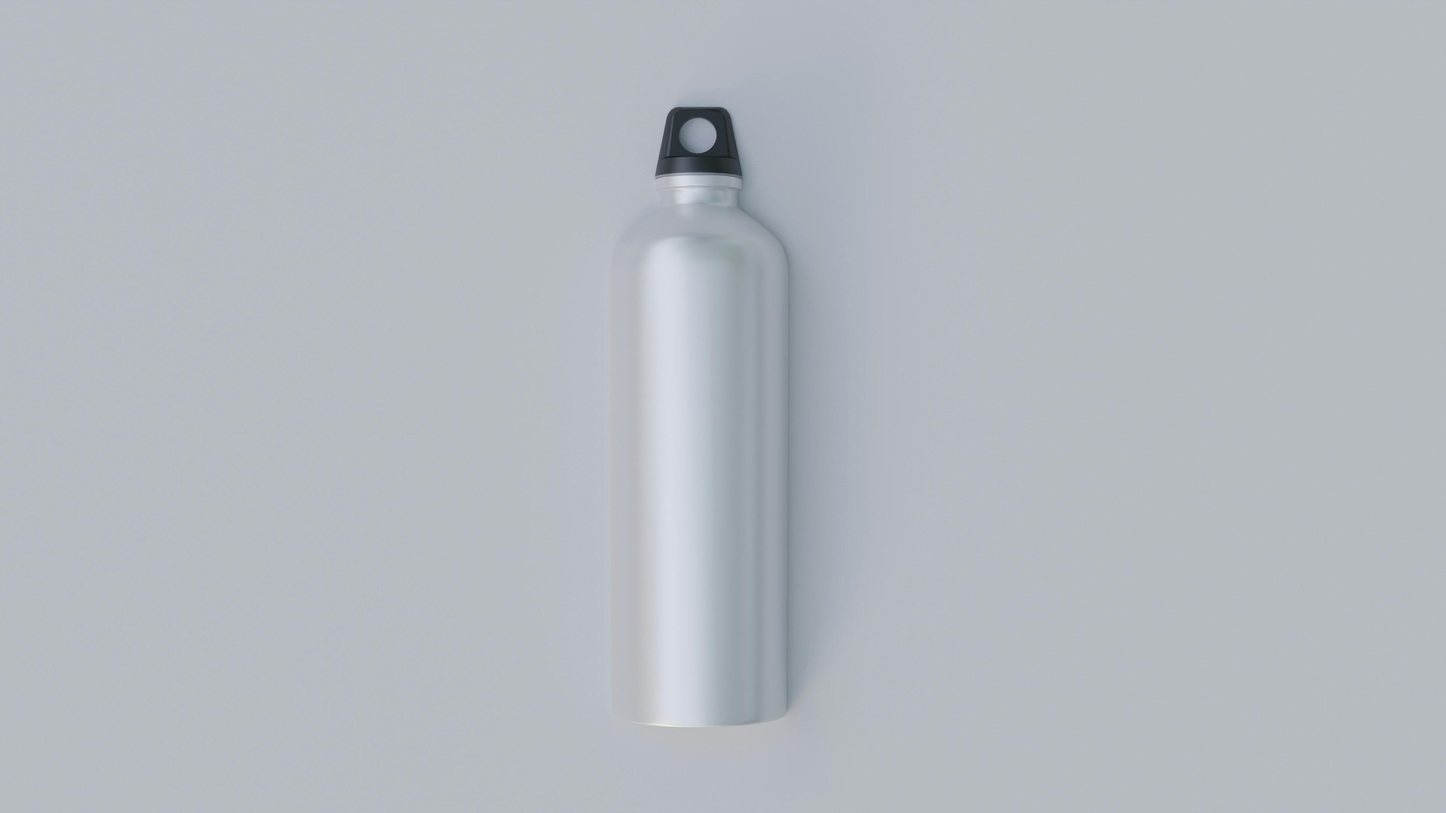Bottle-Detection: (550, 68, 851, 775)
